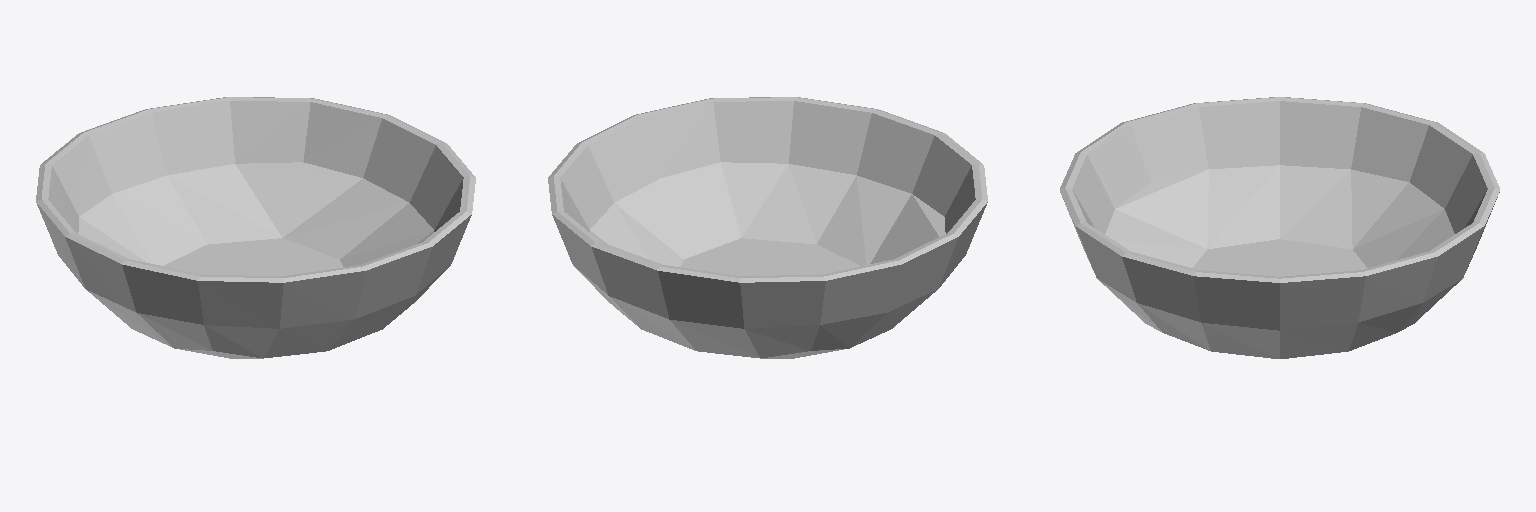
File: BowlProofs.obj
3 views of the same model, side by side, from view 1: azimuth 30°, elevation 25°; view 2: azimuth 150°, elevation 25°; view 3: azimuth 270°, elevation 25° (orthographic).
Visible parts, largest first — view 1: Cube; view 2: Cube; view 3: Cube.
Part boxes in pixels (x1,y1,x2,y2): Cube: (36, 97, 475, 358); Cube: (548, 97, 987, 358); Cube: (1060, 97, 1499, 358).
Bounding box in the file's own units: 0.073 × 0.025 × 0.073.